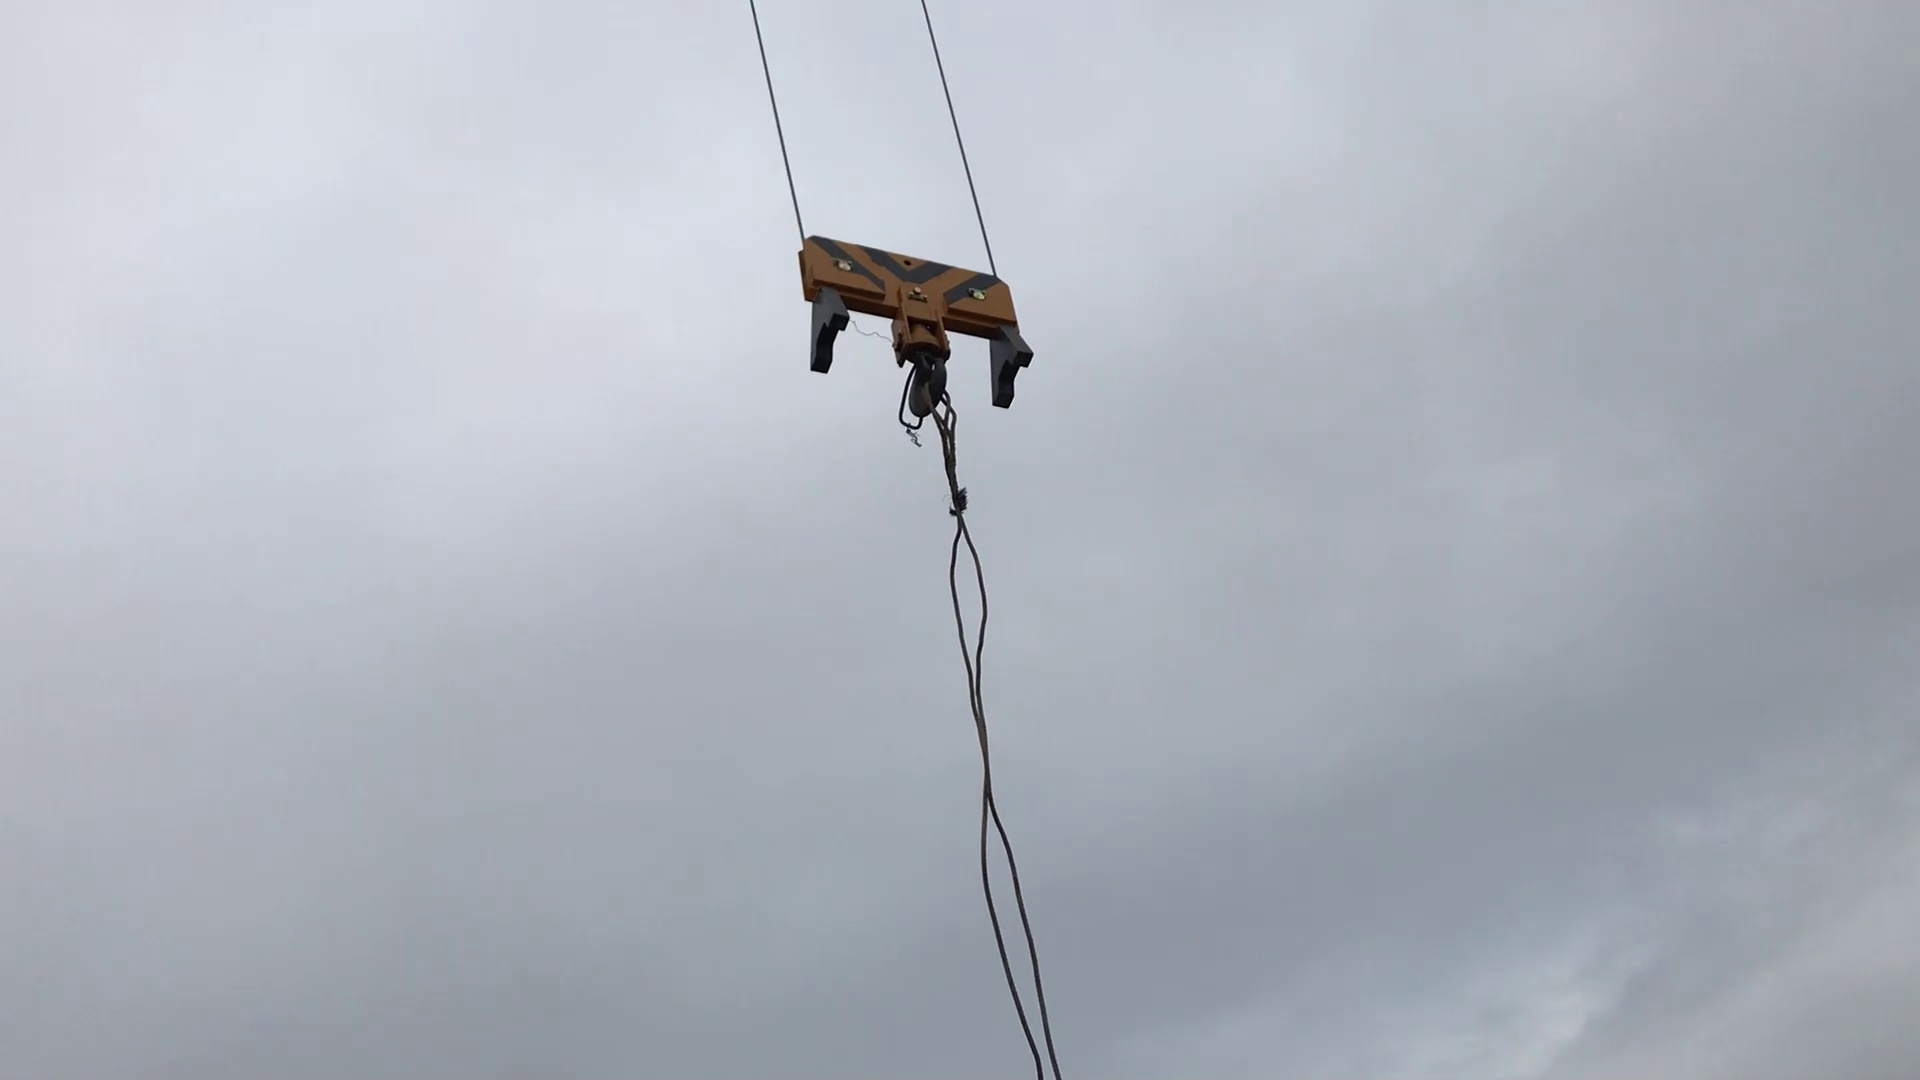hook: (774, 193, 1073, 435)
